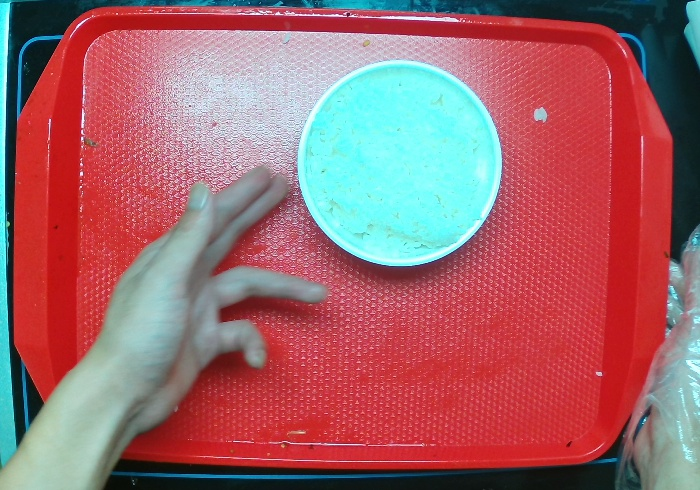YKMZ-Fan_Wan: (293, 54, 505, 270)
